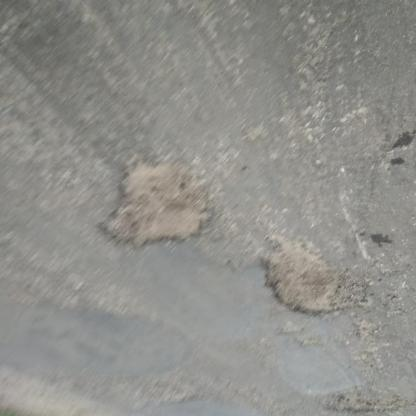pothole: (93, 158, 219, 255), (257, 233, 360, 320), (319, 390, 408, 416)
